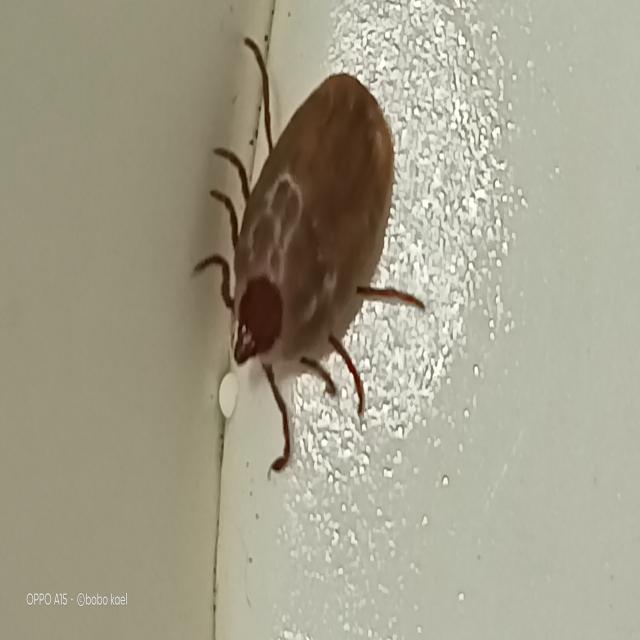Rhipicephalus Sanguineus-F-Fed: (192, 39, 425, 474)
